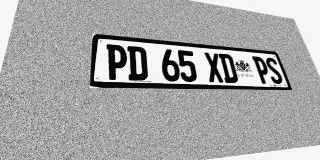5: (177, 50, 198, 82)
6: (160, 48, 181, 82)
D: (127, 46, 148, 81), (218, 53, 239, 83)
P: (106, 44, 128, 80), (252, 56, 273, 84)
S: (264, 57, 284, 84)
X: (203, 52, 225, 83)
